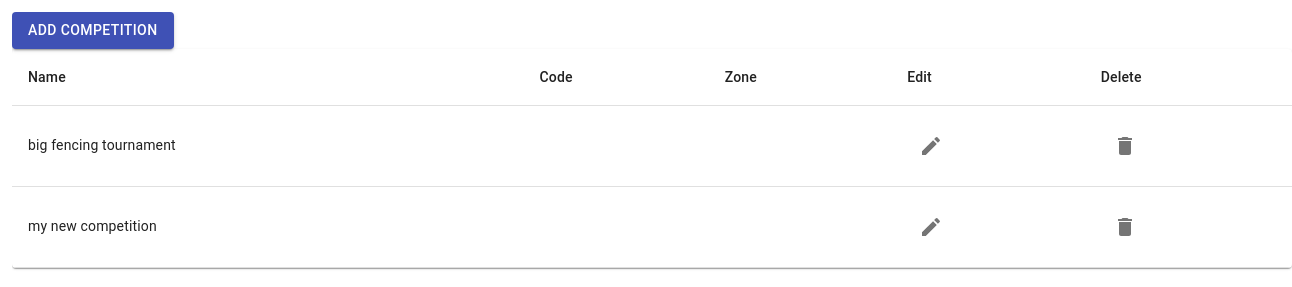
Test: CompetitionList › deletes a competition
expect the text "my new competition" is shown: met, box [12,186,524,267]
Step 1. Click the button with test id "delete-button" in the row of "my new competition" → (1125, 226), box [1101,202,1149,250]
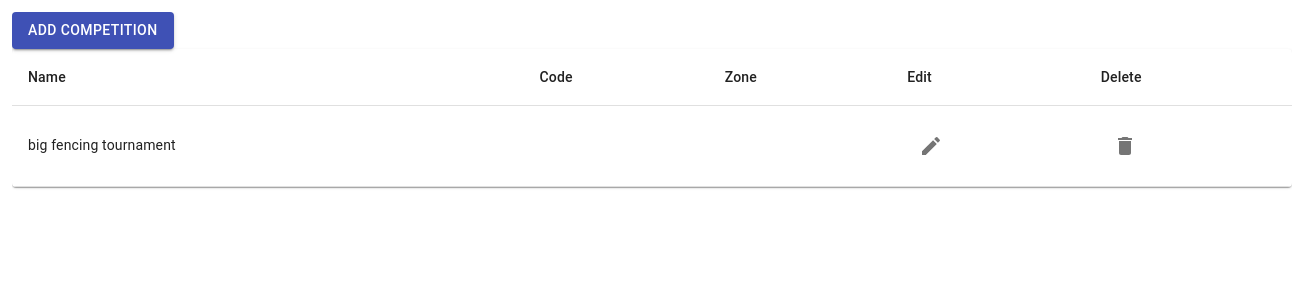
expect the text "my new competition" is gone: met
